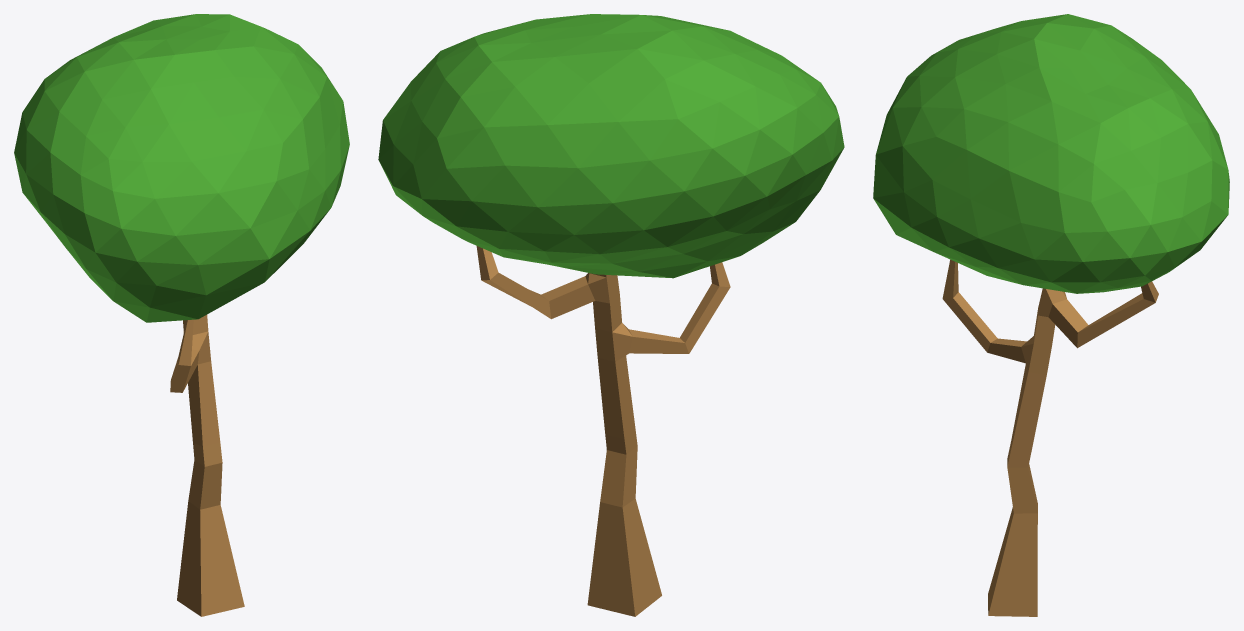
The model's file is treelowpoly1.fbx.
3 views of the same model, side by side, from view 1: azimuth 30°, elevation 25°; view 2: azimuth 150°, elevation 25°; view 3: azimuth 270°, elevation 25° (orthographic). The views are drawn at different scales.
Parts seen in each view (by area): view 1: Icosphere, Plane.001; view 2: Icosphere, Plane.001; view 3: Icosphere, Plane.001.
Part boxes in pixels (x1=…): Icosphere: x1=14, y1=14, x2=349, y2=322; Plane.001: x1=170, y1=314, x2=244, y2=616; Icosphere: x1=378, y1=14, x2=844, y2=278; Plane.001: x1=476, y1=246, x2=730, y2=616; Icosphere: x1=873, y1=14, x2=1229, y2=293; Plane.001: x1=942, y1=259, x2=1158, y2=616.
Bounding box in the file's own units: 1102 × 1727 × 1006.
